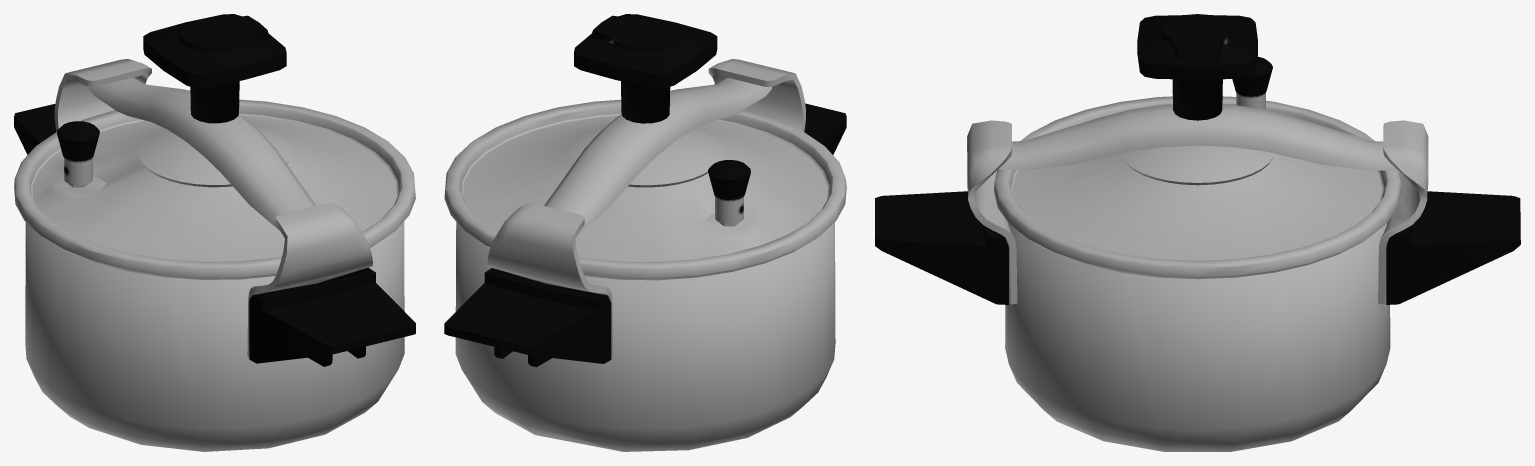
The model's file is pressure_cooker.glb.
The picture shows the model from 3 angles, left to right: view 1: azimuth 30°, elevation 25°; view 2: azimuth 150°, elevation 25°; view 3: azimuth 270°, elevation 25°; orthographic projection.
Parts seen in each view (by area): view 1: Body_lr, Lid_lr, Handles_lr, Lock_lr, HandleBases_lr, ScrewHandle_lr, ValveCap_lr; view 2: Body_lr, Lid_lr, Handles_lr, Lock_lr, HandleBases_lr, ScrewHandle_lr, ValveCap_lr; view 3: Body_lr, Lid_lr, Handles_lr, Lock_lr, ScrewHandle_lr, HandleBases_lr, ValveCap_lr.
Part boxes in pixels (left/top/right/bottom): Body_lr: left=25, top=221, right=404, bottom=451; Lid_lr: left=14, top=99, right=415, bottom=277; Handles_lr: left=14, top=104, right=415, bottom=366; Lock_lr: left=88, top=77, right=315, bottom=231; HandleBases_lr: left=54, top=59, right=372, bottom=358; ScrewHandle_lr: left=143, top=14, right=286, bottom=123; ValveCap_lr: left=57, top=121, right=99, bottom=184; Body_lr: left=455, top=222, right=835, bottom=451; Lid_lr: left=444, top=99, right=846, bottom=278; Handles_lr: left=444, top=103, right=846, bottom=367; Lock_lr: left=544, top=77, right=771, bottom=232; HandleBases_lr: left=487, top=59, right=805, bottom=358; ScrewHandle_lr: left=574, top=14, right=717, bottom=123; ValveCap_lr: left=708, top=160, right=750, bottom=223; Body_lr: left=1005, top=223, right=1390, bottom=451; Lid_lr: left=994, top=96, right=1401, bottom=277; Handles_lr: left=875, top=191, right=1520, bottom=304; Lock_lr: left=999, top=104, right=1397, bottom=170; ScrewHandle_lr: left=1137, top=14, right=1257, bottom=120; HandleBases_lr: left=967, top=120, right=1428, bottom=304; ValveCap_lr: left=1232, top=56, right=1272, bottom=109.
Bounding box in the file's own units: 23.67 × 22.92 × 37.49.
Materials: 1 (1 with a texture image).
